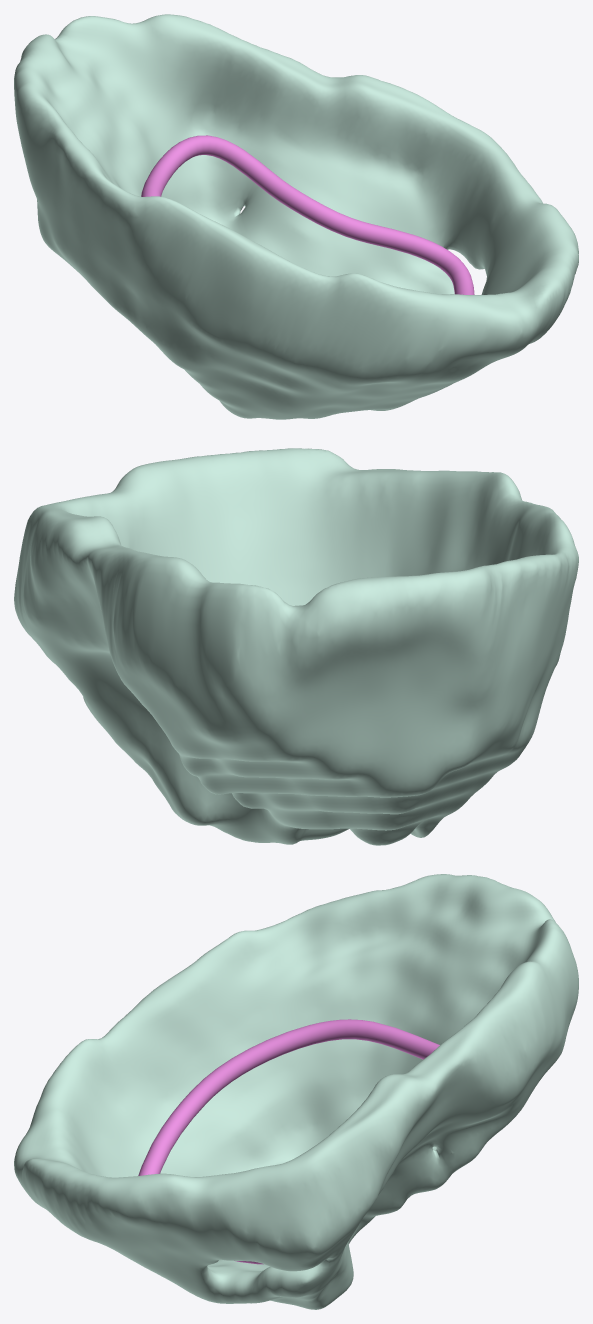
Rendered from mitralvalve.gltf.
The picture shows the model from 3 angles, top to bottom: view 1: azimuth 30°, elevation 25°; view 2: azimuth 150°, elevation 25°; view 3: azimuth 270°, elevation 25°; orthographic projection. The views are drawn at different scales.
Visible parts, largest first — view 1: MeshBody1, Body1.010; view 2: MeshBody1; view 3: MeshBody1, Body1.010.
Boxes of the visible parts, x1=… form: MeshBody1: x1=14, y1=14, x2=578, y2=419; Body1.010: x1=141, y1=135, x2=474, y2=294; MeshBody1: x1=14, y1=448, x2=578, y2=845; MeshBody1: x1=14, y1=874, x2=578, y2=1309; Body1.010: x1=138, y1=1019, x2=439, y2=1264.
Size of the model in its own units: 4.55 by 3.28 by 5.27.
